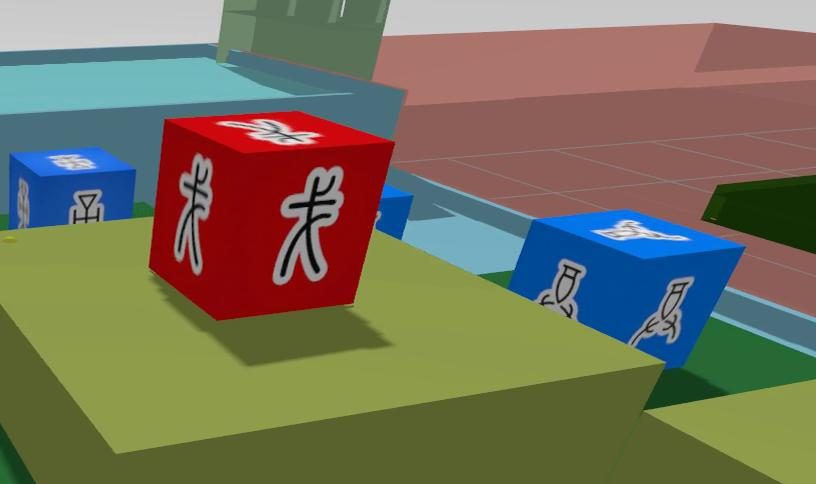KFS_FAKE: (150, 112, 393, 319), (274, 166, 343, 283), (172, 154, 212, 274), (217, 118, 319, 144)
KFS_REAL: (508, 210, 743, 367), (5, 148, 135, 228), (630, 278, 694, 345), (534, 259, 586, 318), (67, 189, 103, 223)
